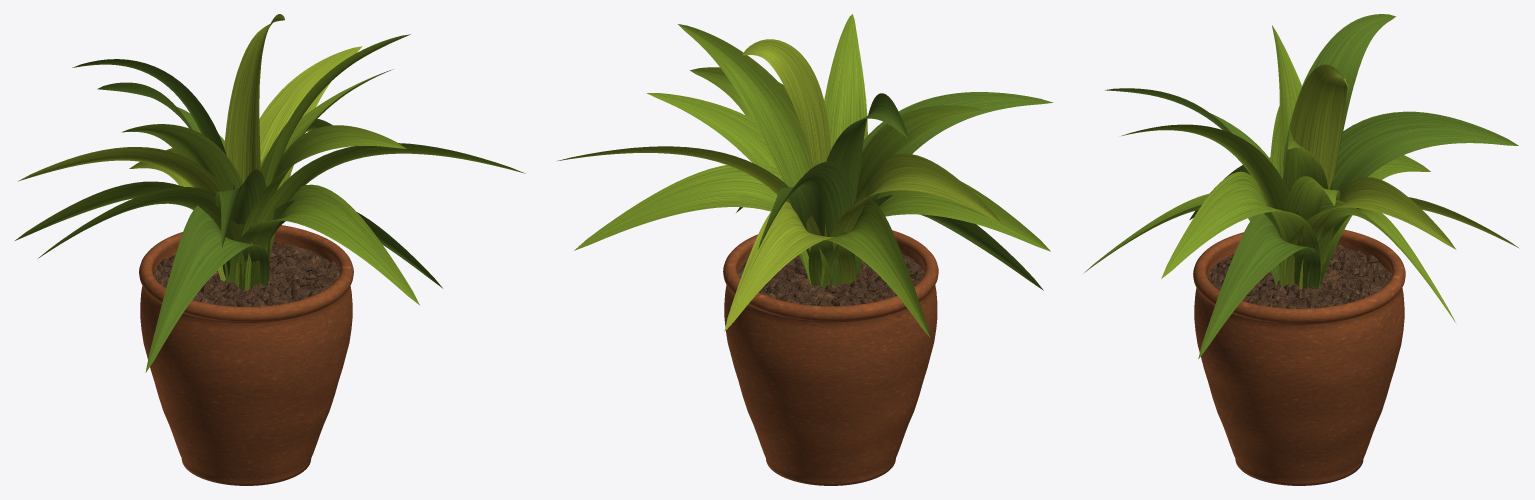
Rendered from humanities_entrance_pot.glb.
3 views of the same model, side by side, from view 1: azimuth 30°, elevation 25°; view 2: azimuth 150°, elevation 25°; view 3: azimuth 270°, elevation 25° (orthographic).
Parts seen in each view (by area): view 1: entrance_pot; view 2: entrance_pot; view 3: entrance_pot.
Part boxes in pixels (x1,y1,x2,y2): entrance_pot: [15, 14, 525, 485]; entrance_pot: [556, 14, 1053, 485]; entrance_pot: [1084, 14, 1519, 485].
Size of the model in its own units: 0.8997 by 0.85 by 0.8115.
3 materials, 3 textured.
